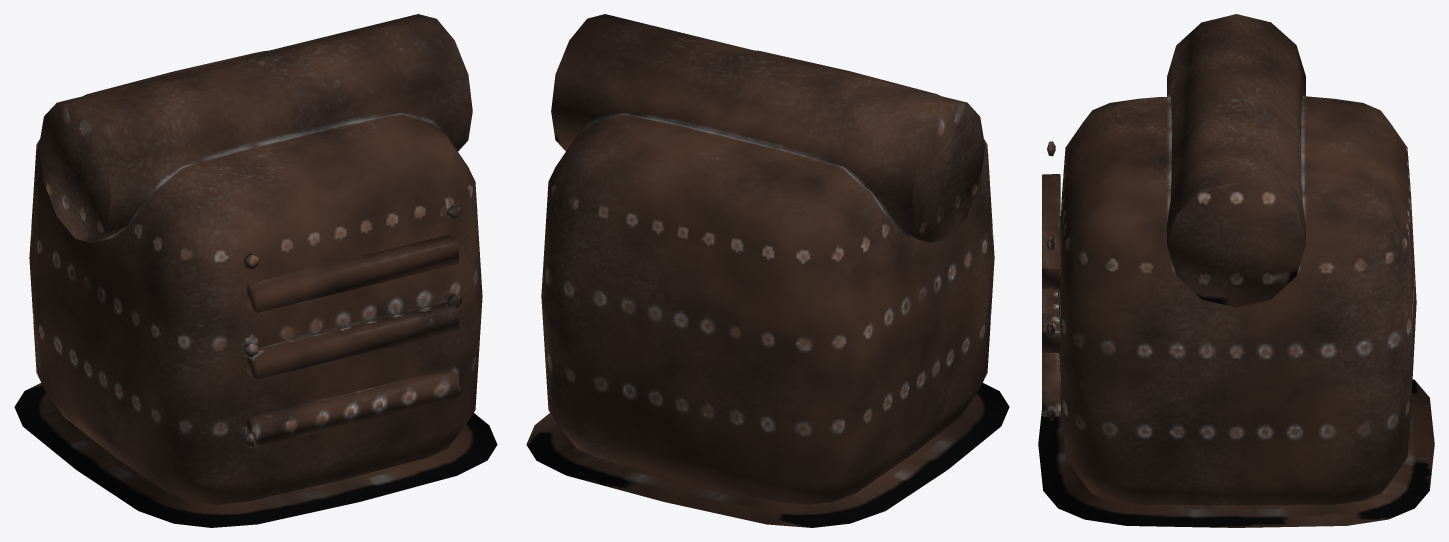
File: MatonImp_BrazoAbajo_Oxido.fbx
3 renders of one model, left to right at view 1: azimuth 30°, elevation 25°; view 2: azimuth 150°, elevation 25°; view 3: azimuth 270°, elevation 25°, orthographic. The views are drawn at different scales.
Parts seen in each view (by area): view 1: MatonImp_BrazoAbajo_Oxido; view 2: MatonImp_BrazoAbajo_Oxido; view 3: MatonImp_BrazoAbajo_Oxido.
Boxes of the visible parts, x1,y1,x2,y2 form: MatonImp_BrazoAbajo_Oxido: [14, 14, 497, 527]; MatonImp_BrazoAbajo_Oxido: [526, 14, 1009, 527]; MatonImp_BrazoAbajo_Oxido: [1038, 14, 1434, 527].
Bounding box in the file's own units: 1.43 × 1.47 × 1.42.
